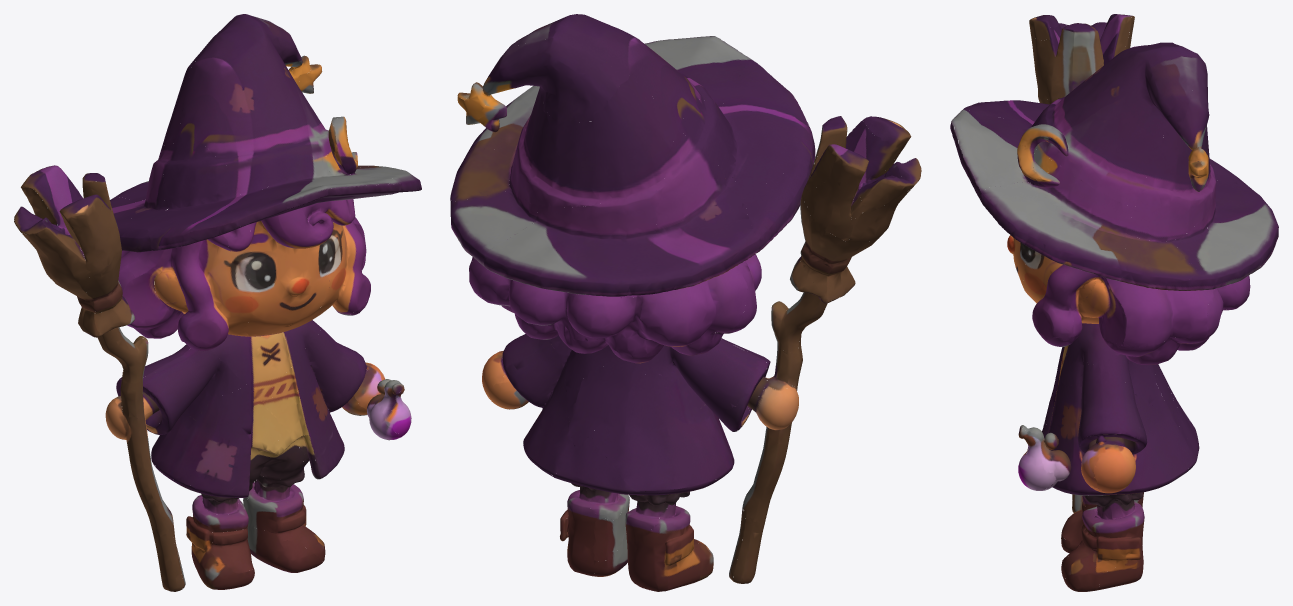
File: witch-mobile.glb
The picture shows the model from 3 angles, left to right: view 1: azimuth 30°, elevation 25°; view 2: azimuth 150°, elevation 25°; view 3: azimuth 270°, elevation 25°; orthographic projection. The views are drawn at different scales.
Parts seen in each view (by area): view 1: tripo_node_d1ac8c37-b547-4bd7-afbd-b76efef2a7aa; view 2: tripo_node_d1ac8c37-b547-4bd7-afbd-b76efef2a7aa; view 3: tripo_node_d1ac8c37-b547-4bd7-afbd-b76efef2a7aa.
Part boxes in pixels (x1,y1,x2,y2): tripo_node_d1ac8c37-b547-4bd7-afbd-b76efef2a7aa: (14,14,421,591); tripo_node_d1ac8c37-b547-4bd7-afbd-b76efef2a7aa: (450,14,921,591); tripo_node_d1ac8c37-b547-4bd7-afbd-b76efef2a7aa: (950,14,1278,591).
Size of the model in its own units: 0.7766 by 1 by 0.556.
1 material, 1 textured.
